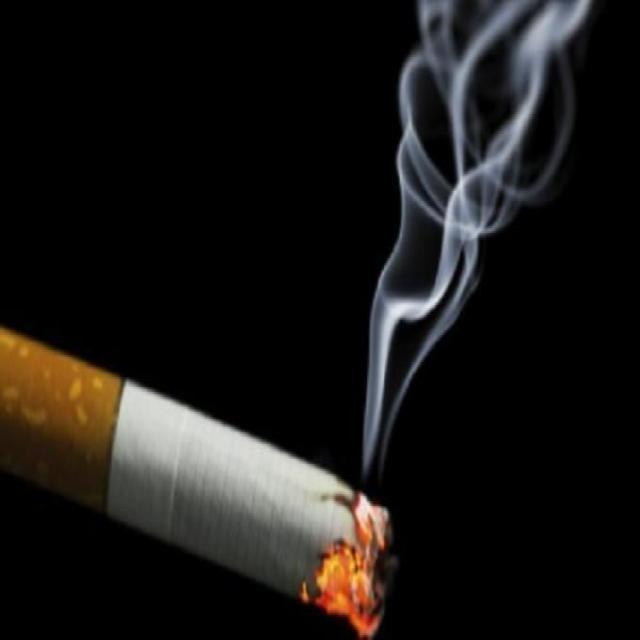rokok: (0, 322, 396, 634)
